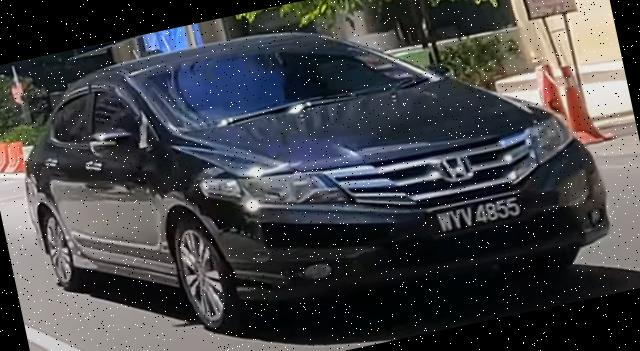License_Plate: (430, 191, 527, 238)
car: (1, 1, 622, 351)
